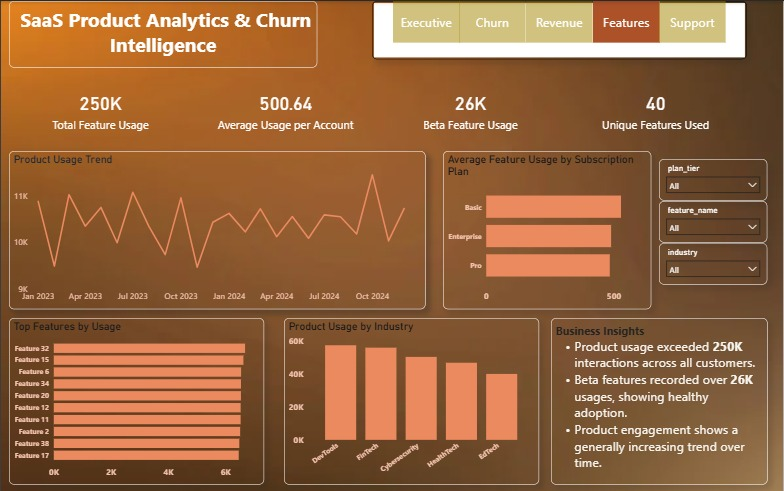

What the dashboard file says about the page in this screenshot:
{"tool":"powerbi","page":{"name":"Feature & Product Usage","canvas":[1501,941],"ordinal":3},"visuals":[{"type":"card","fields":{"Values":["DAX_Measures.Total Feature Usage"]},"box":[16,144,352,128],"z":0},{"type":"card","fields":{"Values":["DAX_Measures.Average Usage per Account"]},"box":[371,144,352,128],"z":1000},{"type":"card","fields":{"Values":["DAX_Measures.Beta Feature Usage"]},"box":[726,144,352,128],"z":2000},{"type":"card","fields":{"Values":["DAX_Measures.Unique Features Used"]},"box":[1081,144,352,128],"z":3000},{"type":"clusteredBarChart","title":"Top Features by Usage","fields":{"Category":["feature_usage_clean.feature_name"],"Y":["DAX_Measures.Total Feature Usage"]},"box":[16,608,490,320],"z":4000},{"type":"clusteredColumnChart","title":"Product Usage by Industry","fields":{"Category":["accounts_clean.industry"],"Y":["DAX_Measures.Total Feature Usage"]},"box":[544,608,490,320],"z":5000},{"type":"lineChart","title":"Product Usage Trend","fields":{"Category":["feature_usage_clean.usage_date.Variation.Date Hierarchy.Year","feature_usage_clean.usage_date.Variation.Date Hierarchy.Month"],"Y":["DAX_Measures.Total Feature Usage"]},"box":[16,288,800,304],"z":6000},{"type":"clusteredBarChart","title":"Average Product Usage by Subscription Plan","fields":{"Category":["accounts_clean.plan_tier"],"Y":["DAX_Measures.Average Usage per Account"]},"box":[848,288,400,304],"z":7000},{"type":"slicer","fields":{"Values":["accounts_clean.industry"]},"box":[1264,464,208,80],"z":8000},{"type":"slicer","fields":{"Values":["accounts_clean.plan_tier"]},"box":[1264,304,208,80],"z":9000},{"type":"slicer","fields":{"Values":["feature_usage_clean.feature_name"]},"box":[1264,384,208,80],"z":10000},{"type":"textbox","box":[1056,608,416,320],"z":11000},{"type":"shape","box":[713,0,720,112],"z":12000},{"type":"actionButton","title":"Executive","box":[752,0,128,80],"z":13000},{"type":"actionButton","box":[880,0,128,80],"z":14000},{"type":"actionButton","box":[1008,0,128,80],"z":15000},{"type":"actionButton","box":[1136,0,128,80],"z":16000},{"type":"actionButton","box":[1264,0,128,80],"z":17000},{"type":"textbox","box":[16,0,592,128],"z":18000}]}

Visuals, with their boxes in screenshot pixels (x1, y1, x2, y2), scaled from the page's 1501x941 canvas onto the 784x491 screenshot:
card - DAX_Measures.Total Feature Usage: Rect(8, 75, 192, 142)
card - DAX_Measures.Average Usage per Account: Rect(194, 75, 378, 142)
card - DAX_Measures.Beta Feature Usage: Rect(379, 75, 563, 142)
card - DAX_Measures.Unique Features Used: Rect(565, 75, 748, 142)
"Top Features by Usage" clusteredBarChart: Rect(8, 317, 264, 484)
"Product Usage by Industry" clusteredColumnChart: Rect(284, 317, 540, 484)
"Product Usage Trend" lineChart: Rect(8, 150, 426, 309)
"Average Product Usage by Subscription Plan" clusteredBarChart: Rect(443, 150, 652, 309)
slicer - accounts_clean.industry: Rect(660, 242, 769, 284)
slicer - accounts_clean.plan_tier: Rect(660, 159, 769, 200)
slicer - feature_usage_clean.feature_name: Rect(660, 200, 769, 242)
textbox: Rect(552, 317, 769, 484)
shape: Rect(372, 0, 748, 58)
"Executive" actionButton: Rect(393, 0, 460, 42)
actionButton: Rect(460, 0, 526, 42)
actionButton: Rect(526, 0, 593, 42)
actionButton: Rect(593, 0, 660, 42)
actionButton: Rect(660, 0, 727, 42)
textbox: Rect(8, 0, 318, 67)
